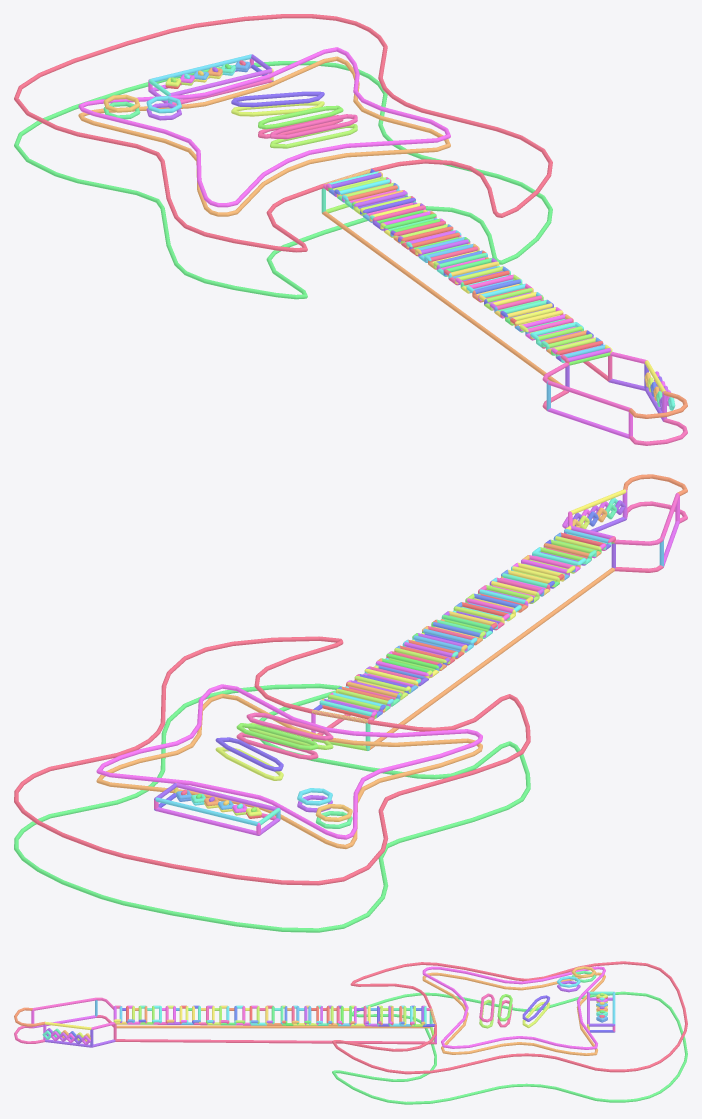
File: onshape_guitar.gltf
3 renders of one model, top to bottom at view 1: azimuth 30°, elevation 25°; view 2: azimuth 150°, elevation 25°; view 3: azimuth 270°, elevation 25°, orthographic. The views are drawn at different scales.
Size of the model in its own units: 0.3653 by 0.069 by 0.9338.
